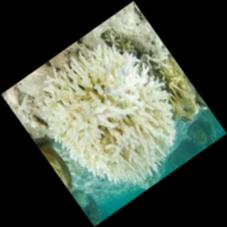bleached_corals: (11, 12, 203, 205)
